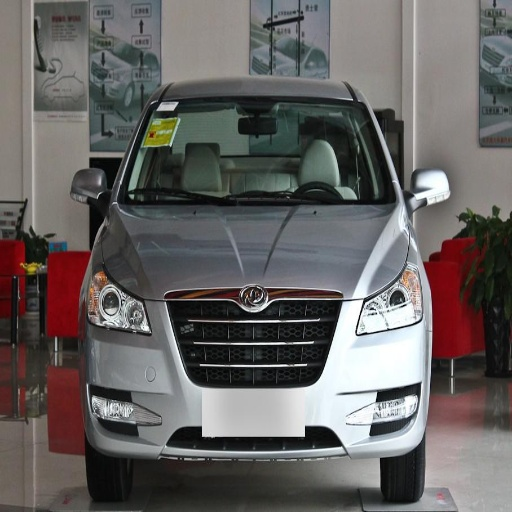front_bumper: (85, 285, 424, 459)
front_right_light: (82, 262, 151, 336)
hood: (101, 202, 408, 300)
left_mirror: (408, 168, 450, 211)
